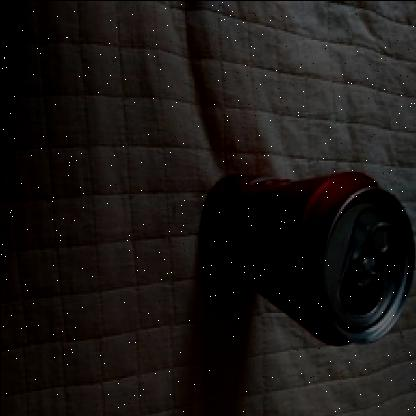Can: (176, 101, 416, 371)
